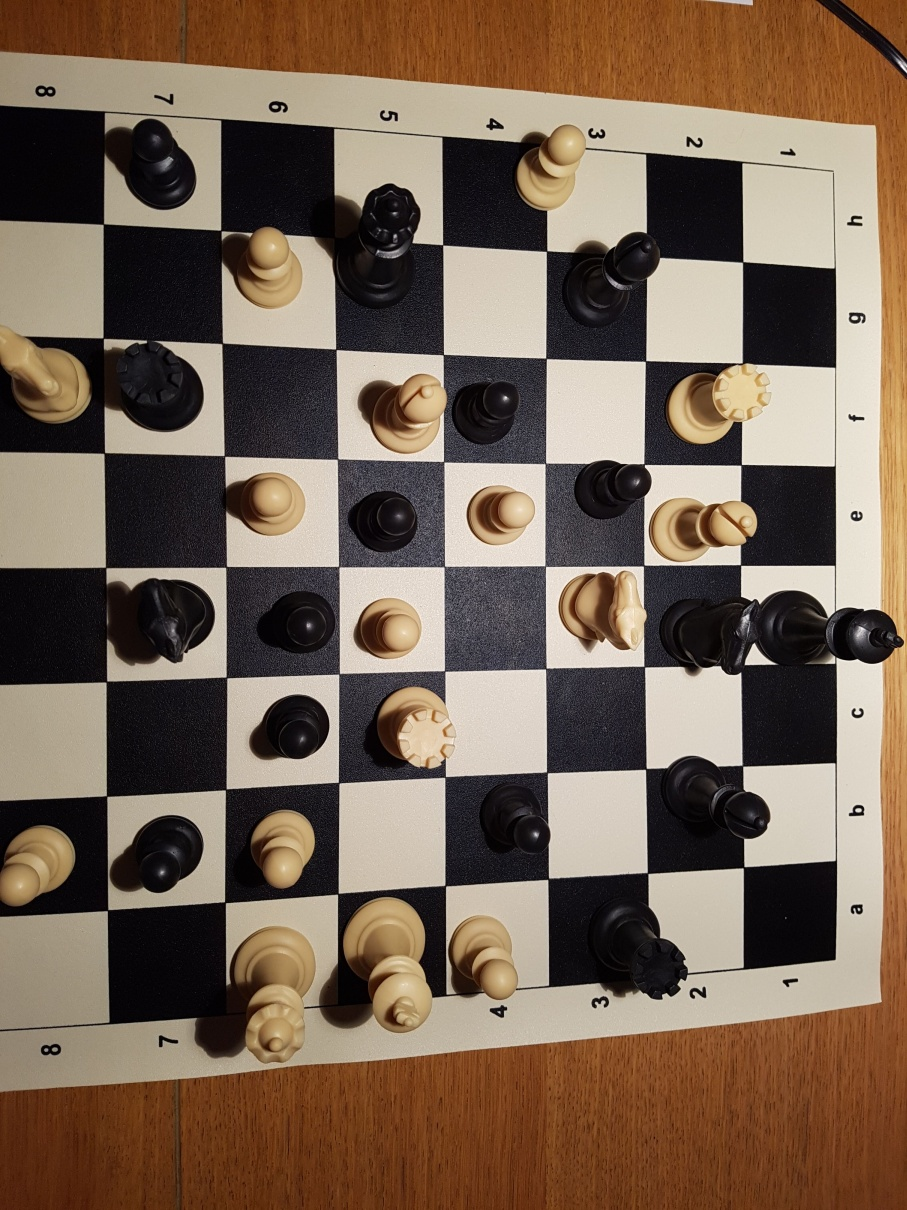chess_bishop: (573, 228, 659, 328), (669, 756, 770, 841), (649, 496, 760, 563), (368, 371, 448, 453)
chess_king: (340, 896, 439, 1034), (764, 588, 903, 670)
chess_knight: (2, 325, 93, 427), (663, 590, 759, 678), (560, 571, 650, 655), (131, 576, 216, 662)
chess_pawn: (123, 116, 197, 210), (514, 128, 590, 214), (234, 229, 309, 313), (451, 914, 519, 1005), (2, 823, 76, 905), (131, 815, 206, 894), (248, 806, 321, 887), (457, 481, 538, 549), (355, 592, 425, 665), (483, 785, 553, 855), (237, 469, 308, 536), (267, 590, 338, 652), (262, 695, 329, 760), (350, 489, 418, 553), (574, 459, 652, 514), (453, 380, 519, 442)
chess_queen: (231, 924, 317, 1067), (349, 184, 424, 309)
chess_rook: (113, 338, 208, 430), (600, 903, 688, 1002), (666, 366, 767, 448), (375, 686, 458, 774)
